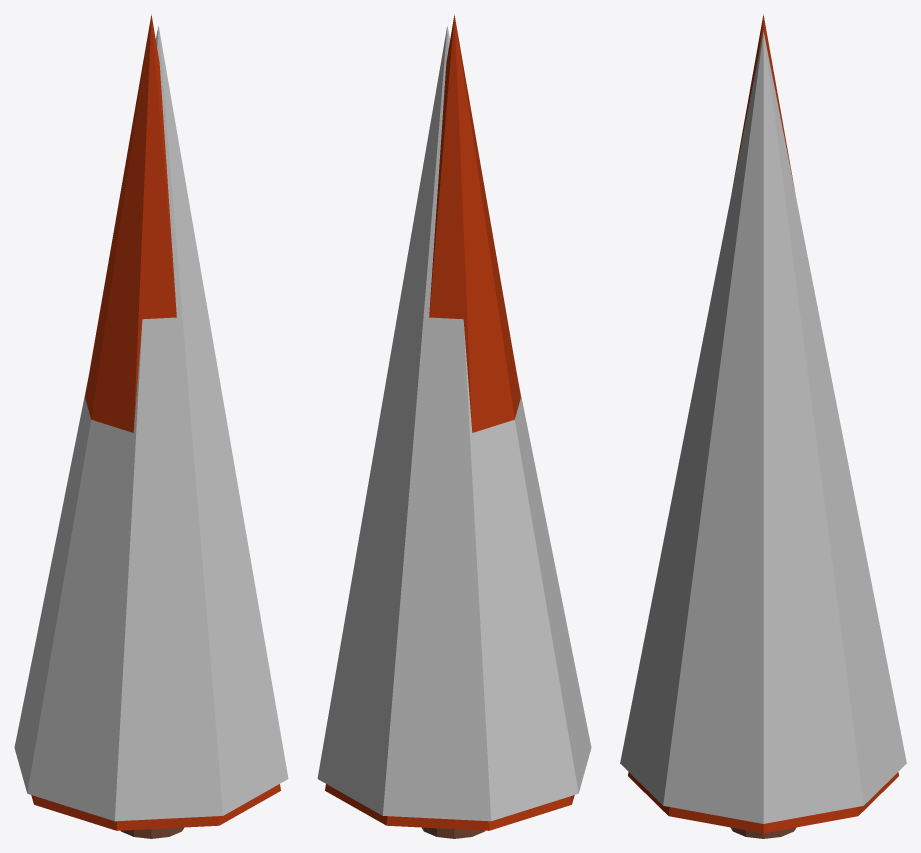
Rendered from Tree_24_winter_red_mat.fbx.
The picture shows the model from 3 angles, left to right: view 1: azimuth 30°, elevation 25°; view 2: azimuth 150°, elevation 25°; view 3: azimuth 270°, elevation 25°; orthographic projection.
Visible parts, largest first — view 1: Tree_24_winter_red_mat; view 2: Tree_24_winter_red_mat; view 3: Tree_24_winter_red_mat.
Part boxes in pixels (x1,y1,x2,y2): Tree_24_winter_red_mat: (14, 14, 288, 838); Tree_24_winter_red_mat: (317, 14, 591, 838); Tree_24_winter_red_mat: (620, 14, 906, 838).
Size of the model in its own units: 90.22 by 281 by 90.22.
